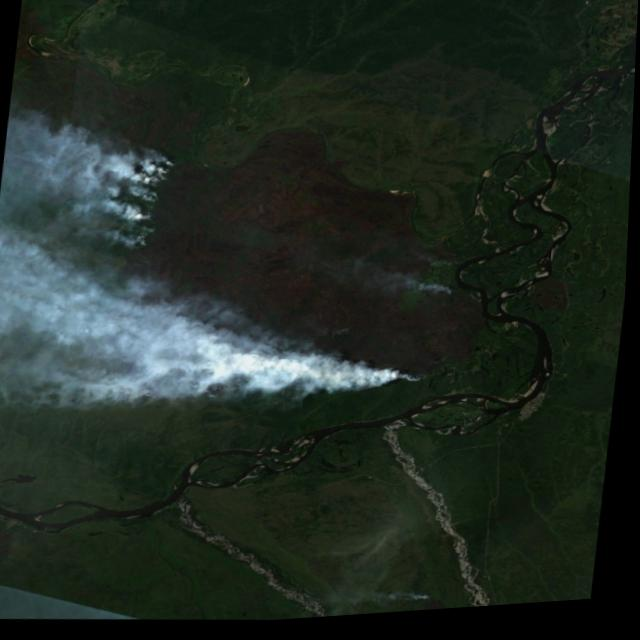fire: (112, 330, 446, 430), (119, 155, 179, 261)
